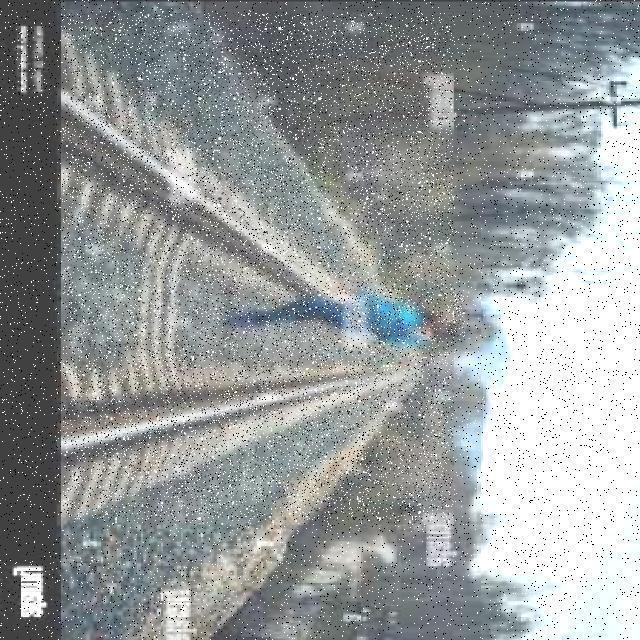rail: (64, 15, 454, 522)
